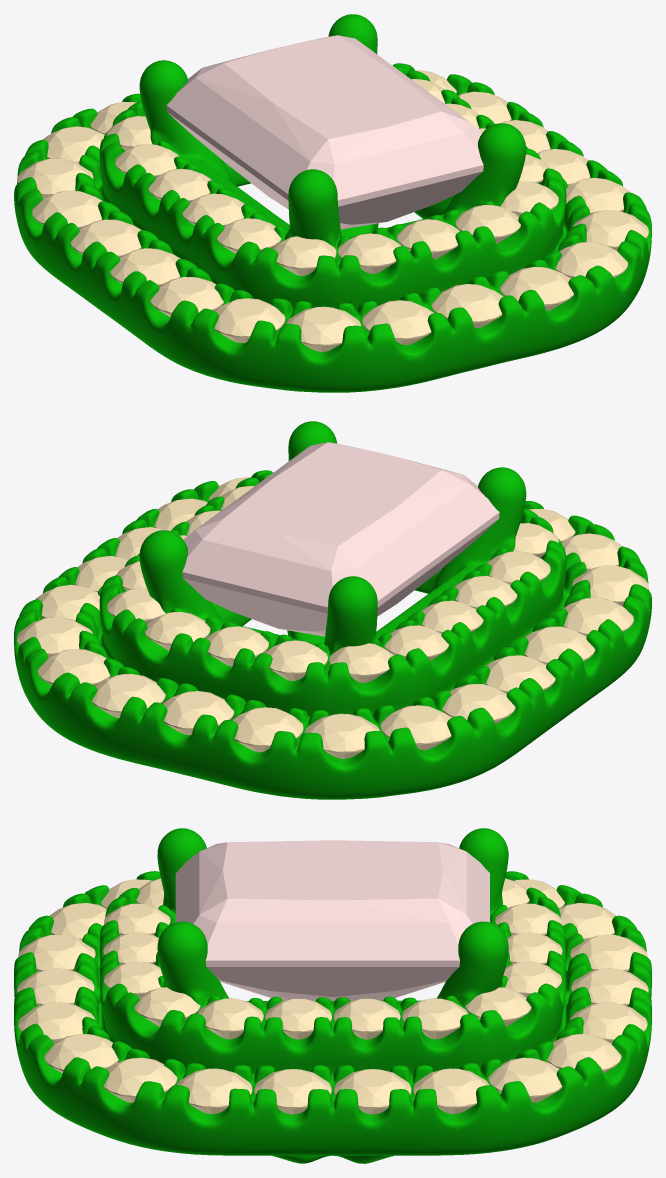
3 views of the same model, one above another, from view 1: azimuth 30°, elevation 25°; view 2: azimuth 150°, elevation 25°; view 3: azimuth 270°, elevation 25° (orthographic).
Visible parts, largest first — view 1: Metal01, Diamond_Radiant, Diamond_Round.004, Diamond_Round, Diamond_Round.013, Diamond_Round.021, Diamond_Round.002, Diamond_Round.012, Diamond_Round.006, Diamond_Round.020, Diamond_Round.019, Diamond_Round.011 (+19 smaller); view 2: Metal01, Diamond_Radiant, Diamond_Round.016, Diamond_Round.017, Diamond_Round.018, Diamond_Round.003, Diamond_Round.001, Diamond_Round.019, Diamond_Round.005, Diamond_Round.012, Diamond_Round.011, Diamond_Round.020 (+19 smaller); view 3: Metal01, Diamond_Radiant, Diamond_Round.010, Diamond_Round.008, Diamond_Round.014, Diamond_Round.015, Diamond_Round.007, Diamond_Round.009, Diamond_Round.005, Diamond_Round.006, Diamond_Round.002, Diamond_Round.001 (+22 smaller).
Boxes of the visible parts, x1,y1,x2,y2 form: Metal01: [14, 14, 651, 392]; Diamond_Radiant: [166, 35, 483, 229]; Diamond_Round.004: [286, 306, 361, 351]; Diamond_Round: [362, 300, 433, 344]; Diamond_Round.013: [214, 298, 285, 342]; Diamond_Round.021: [431, 284, 503, 327]; Diamond_Round.002: [500, 267, 573, 310]; Diamond_Round.012: [150, 277, 223, 316]; Diamond_Round.006: [555, 242, 627, 278]; Diamond_Round.020: [70, 219, 141, 257]; Diamond_Round.019: [32, 190, 102, 229]; Diamond_Round.011: [110, 248, 180, 286]; Metal01: [14, 421, 651, 799]; Diamond_Radiant: [182, 442, 499, 636]; Diamond_Round.016: [232, 707, 303, 752]; Diamond_Round.017: [304, 713, 379, 758]; Diamond_Round.018: [380, 705, 451, 750]; Diamond_Round.003: [162, 691, 234, 735]; Diamond_Round.001: [92, 674, 165, 717]; Diamond_Round.019: [442, 684, 515, 724]; Diamond_Round.005: [38, 649, 110, 685]; Diamond_Round.012: [562, 597, 633, 636]; Diamond_Round.011: [524, 626, 595, 664]; Diamond_Round.020: [485, 655, 555, 693]; Metal01: [14, 828, 651, 1163]; Diamond_Radiant: [175, 840, 489, 1000]; Diamond_Round.010: [413, 1068, 489, 1114]; Diamond_Round.008: [176, 1068, 252, 1114]; Diamond_Round.014: [488, 1057, 562, 1102]; Diamond_Round.015: [103, 1057, 177, 1102]; Diamond_Round.007: [254, 1069, 331, 1114]; Diamond_Round.009: [334, 1069, 411, 1114]; Diamond_Round.005: [547, 1034, 621, 1073]; Diamond_Round.006: [44, 1034, 118, 1073]; Diamond_Round.002: [18, 1002, 95, 1043]; Diamond_Round.001: [570, 1002, 647, 1043].
Size of the model in its own units: 10.54 by 5.77 by 11.98.
